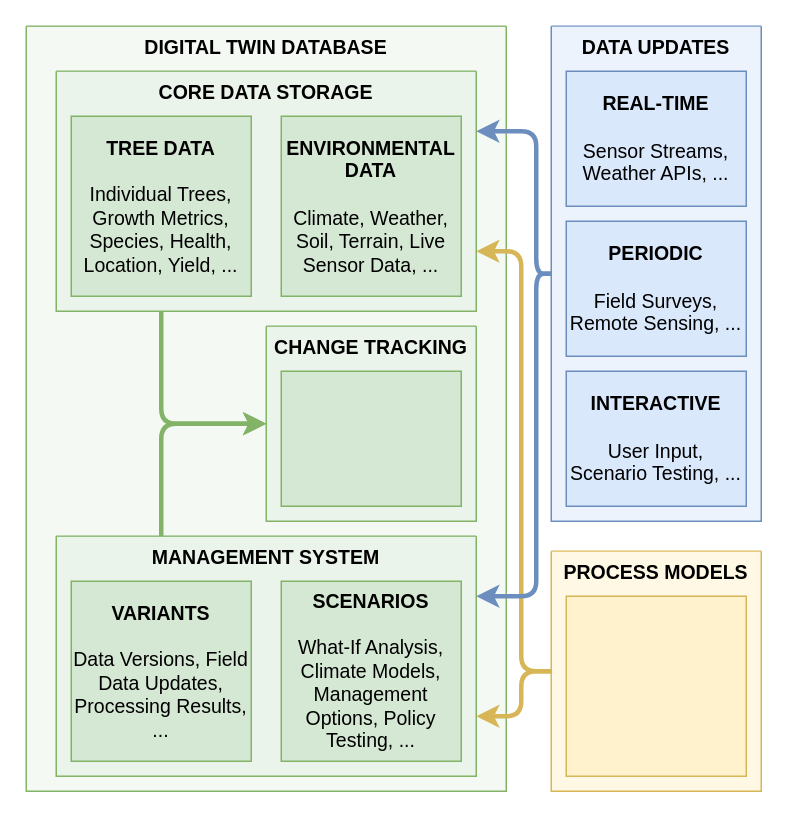
Some shapes in this 788 by 818 pixel diagram are drawn without their labels. Each missing label, with the centre of its shape:
"AUDIT SYSTEM Change History, Tracability, Revert Capability" belongs at (x=370, y=438).
"SCIENTIFIC MODELS Forest Growth, Environmental Processes, Management, ..." belongs at (x=655, y=685).
